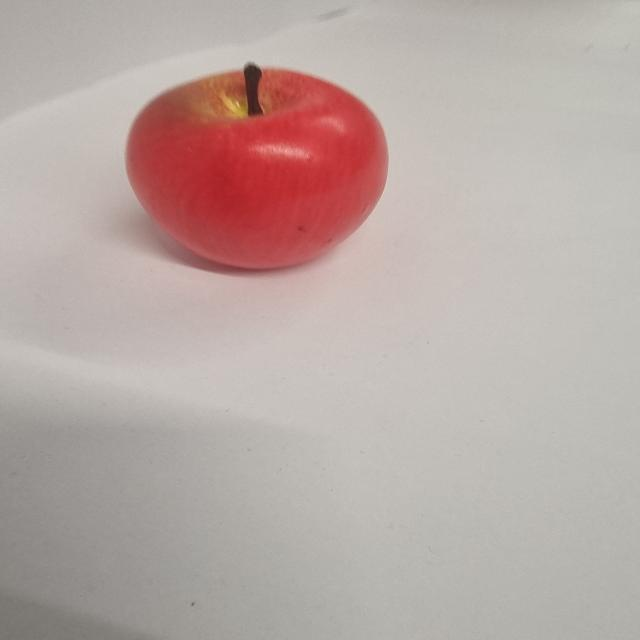apple: (126, 61, 390, 272)
